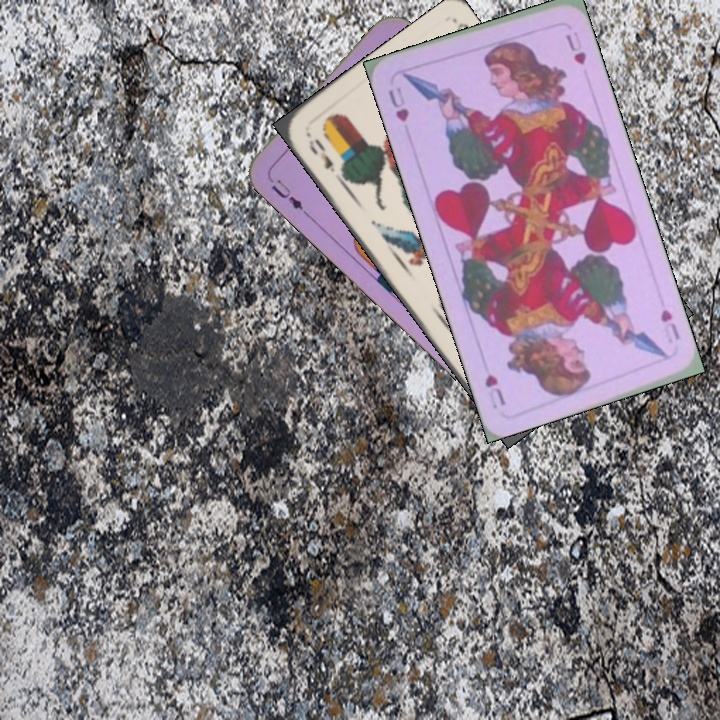EO: (304, 134, 338, 175)
EU: (263, 170, 310, 218)
HU: (384, 83, 412, 125), (656, 305, 682, 343)
